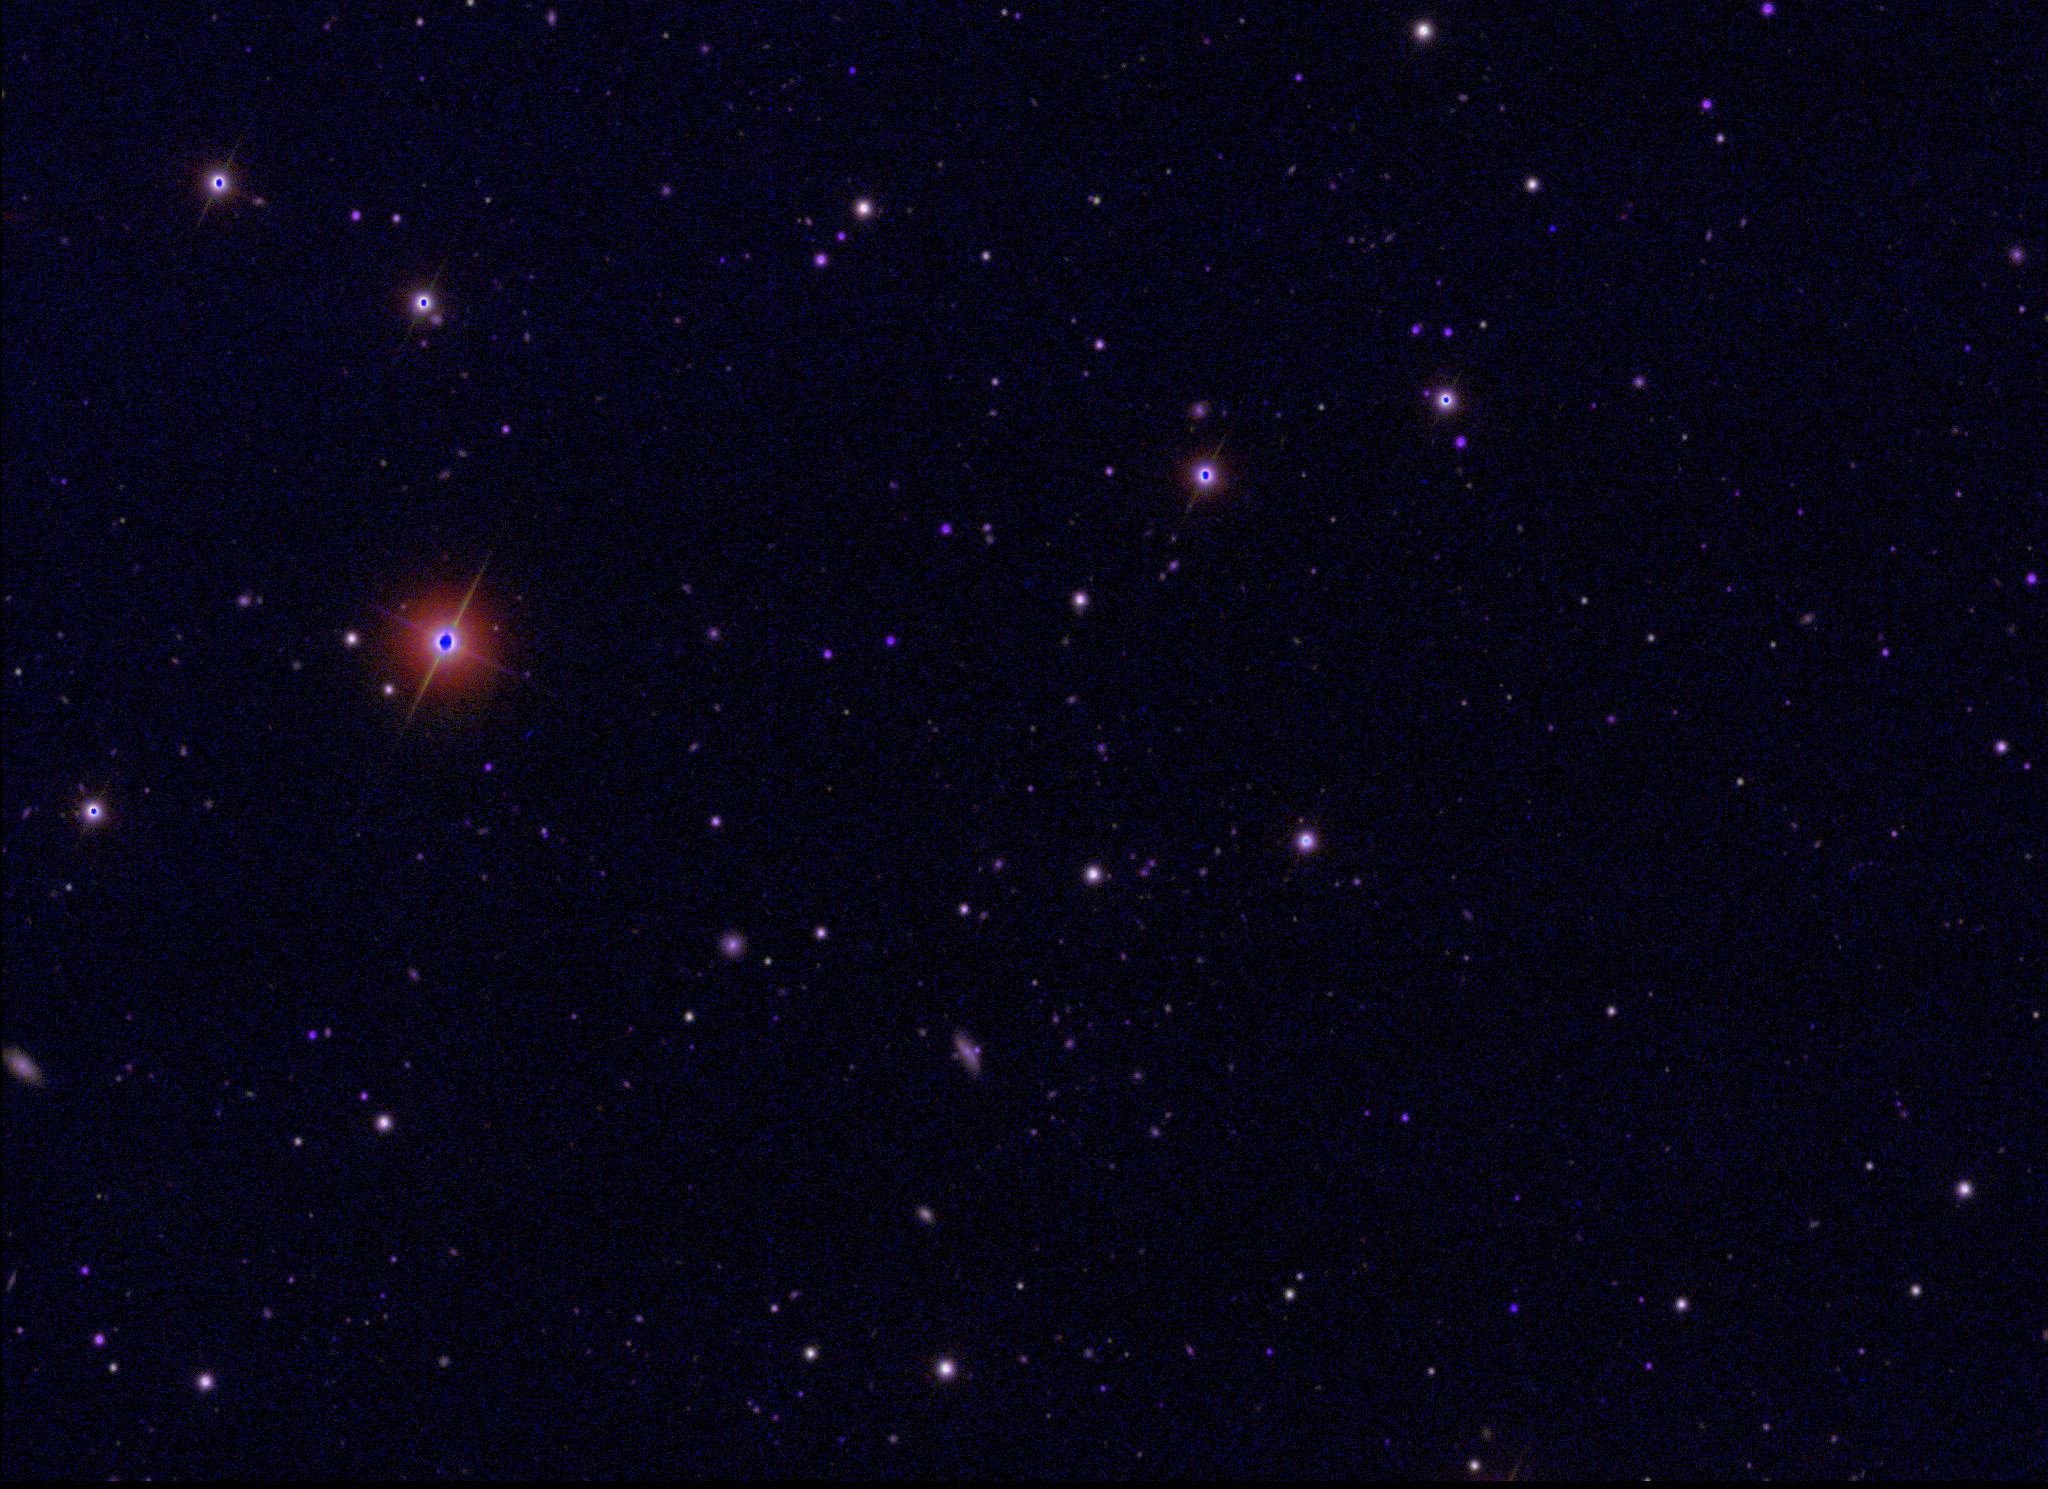L: (1546, 220, 1560, 234)
